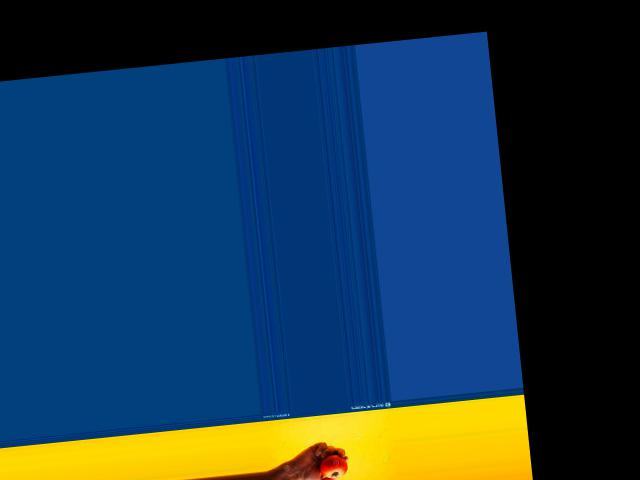tomato: (318, 453, 347, 479)
